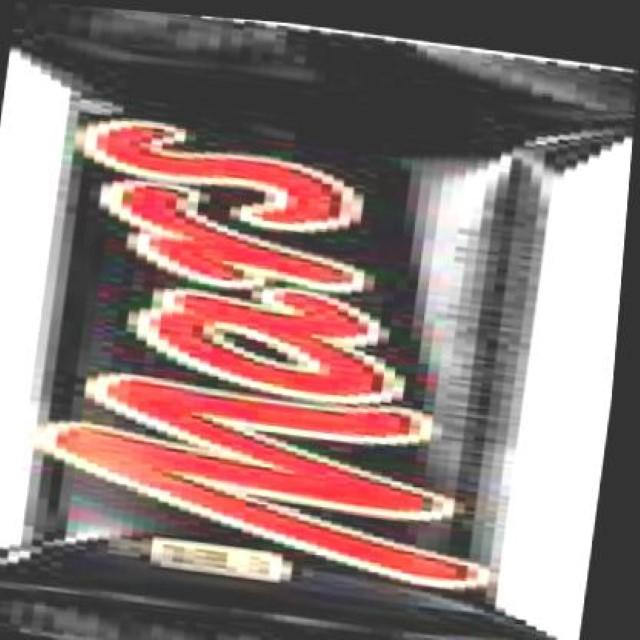mars_chocolate: (68, 41, 466, 640)
